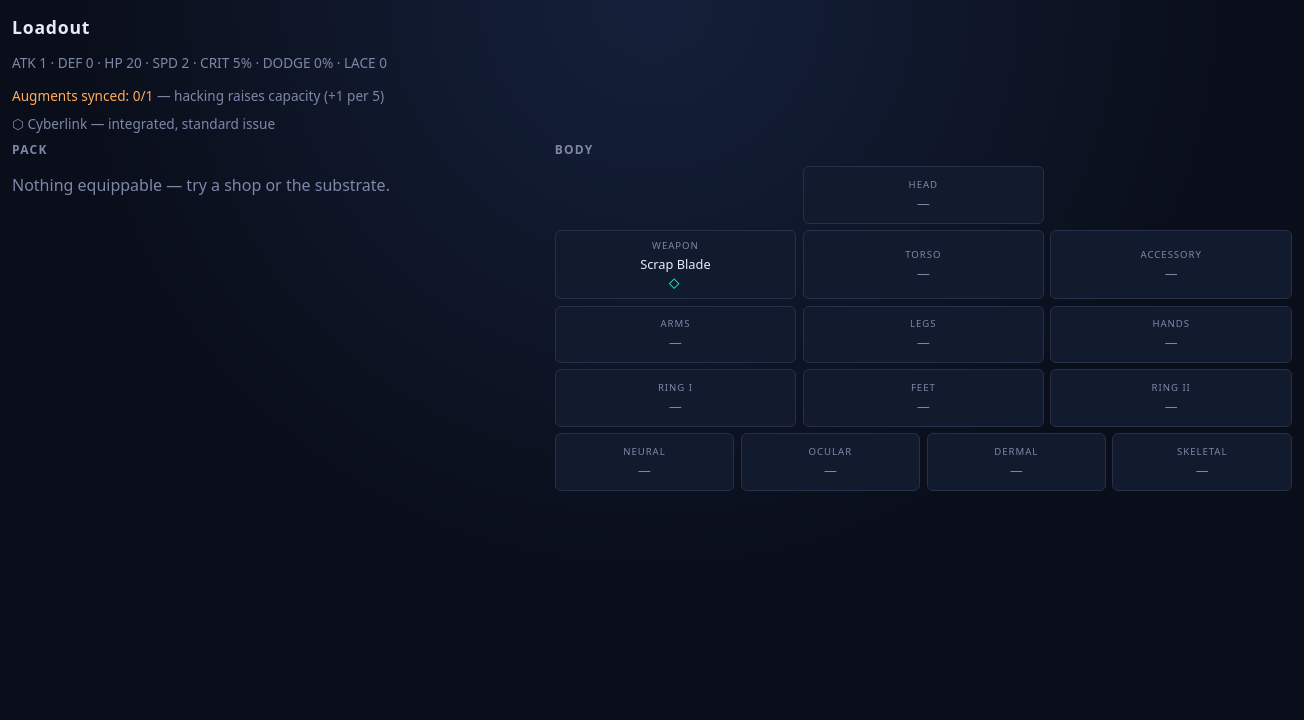
EquipmentPanel › inspecting a worn slot offers removal
Later steps or results of the test are not shown.
Click the button with aria-label "Weapon slot" at (675, 265), box [555,230,796,299]
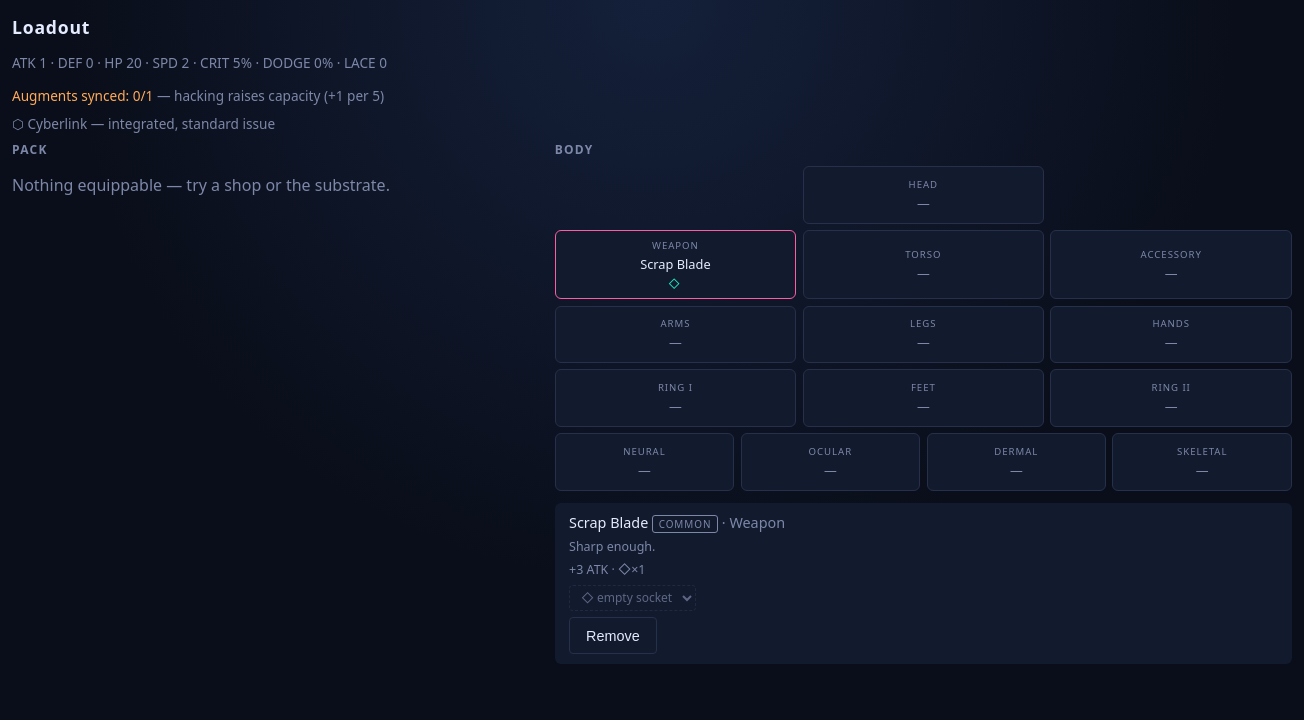
Check: the text "Sharp enough." is shown, box [569,538,655,555]
